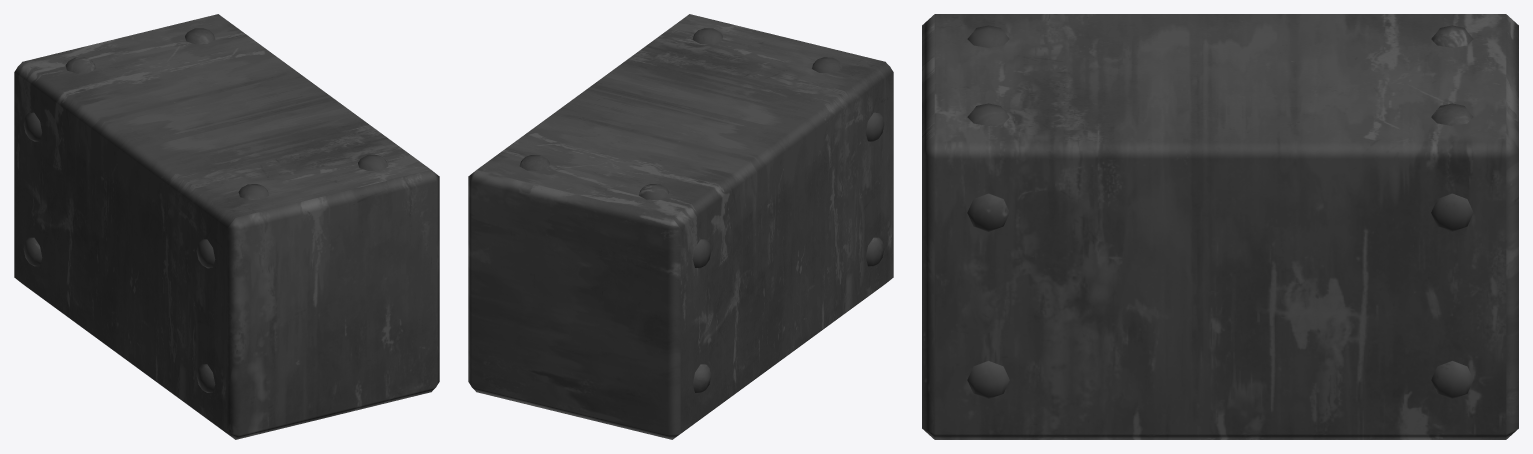
File: pipequad_002.fbx
The picture shows the model from 3 angles, left to right: view 1: azimuth 30°, elevation 25°; view 2: azimuth 150°, elevation 25°; view 3: azimuth 270°, elevation 25°; orthographic projection. The views are drawn at different scales.
Parts seen in each view (by area): view 1: pipequad_002; view 2: pipequad_002; view 3: pipequad_002.
Part boxes in pixels (bbox=[...]): pipequad_002: bbox=[14, 14, 439, 439]; pipequad_002: bbox=[468, 14, 893, 439]; pipequad_002: bbox=[922, 14, 1518, 439].
Bounding box in the file's own units: 942 × 1600 × 942.
